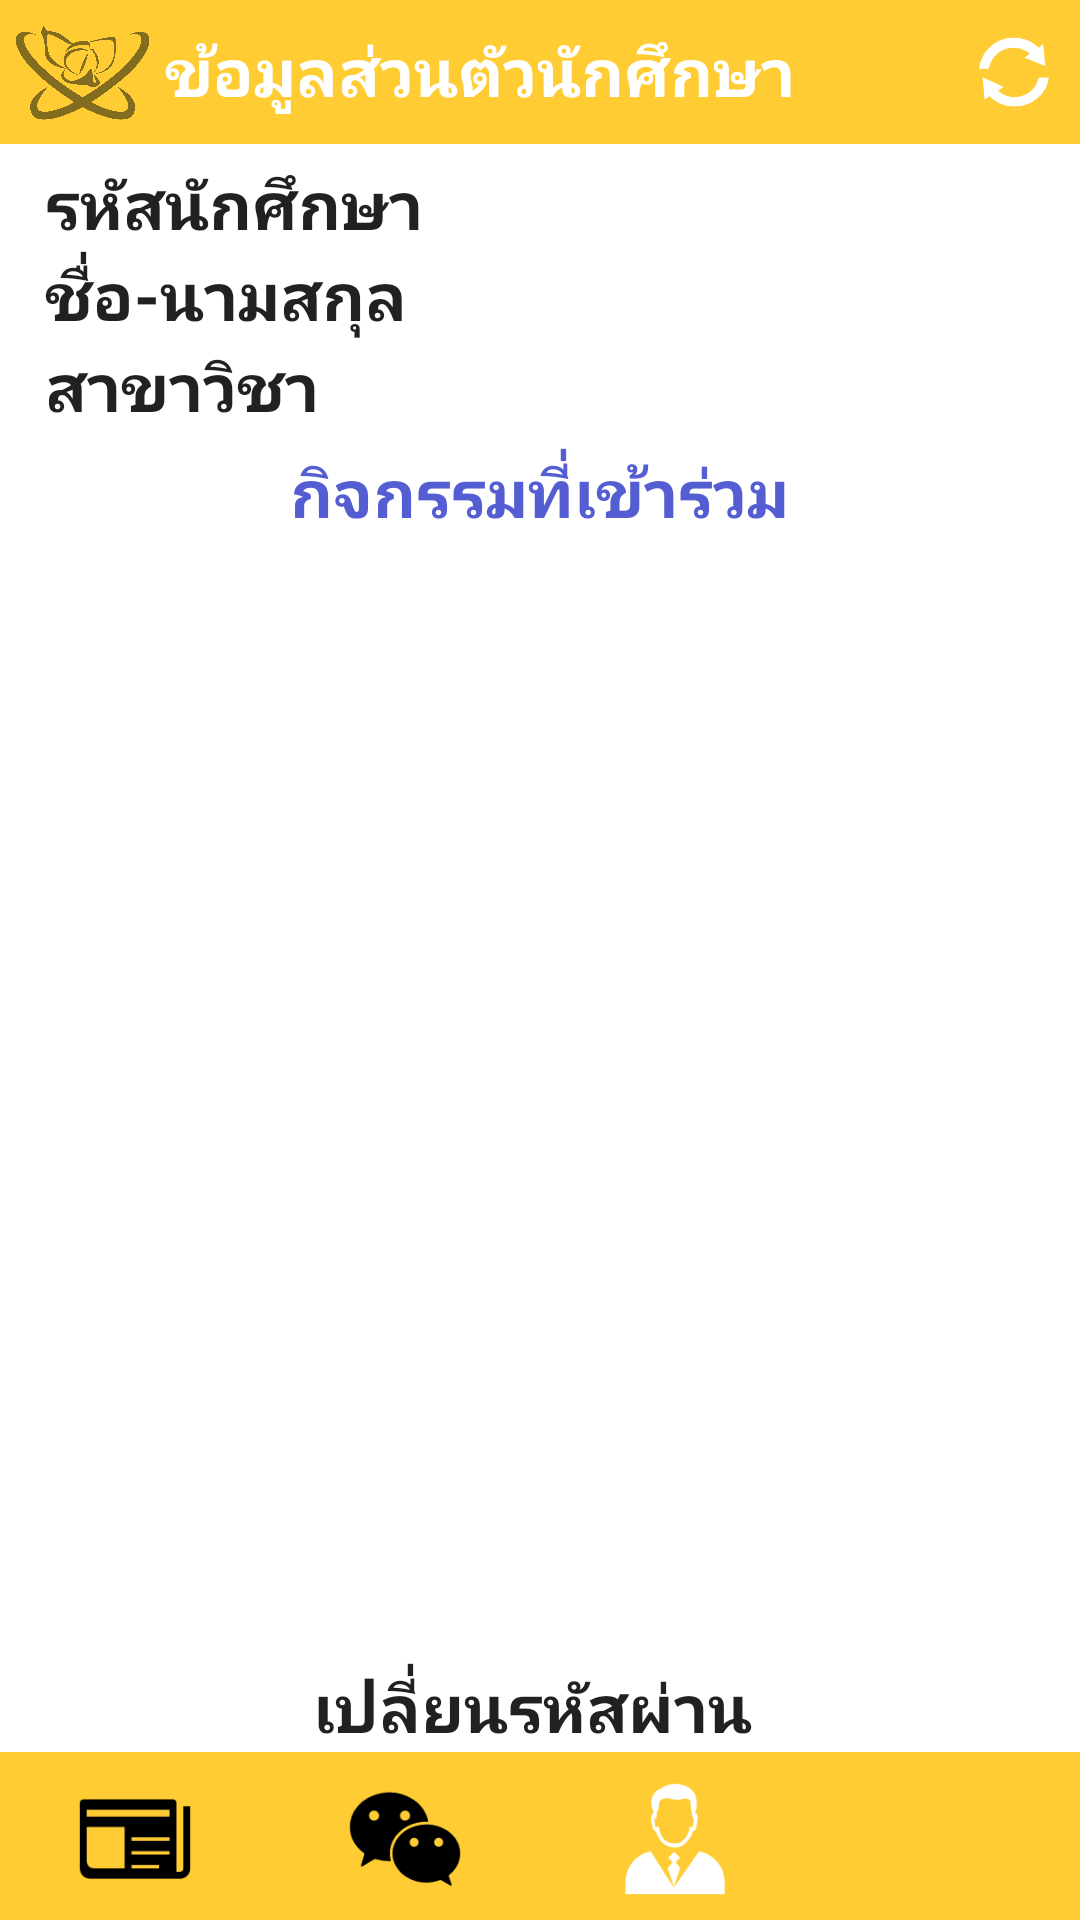

Screen size 1080w x 1920h. Icon name, then its center in pixels as [x,y]:
news: [135,1839]
profile: [675,1839]
refresh: [1014,72]
